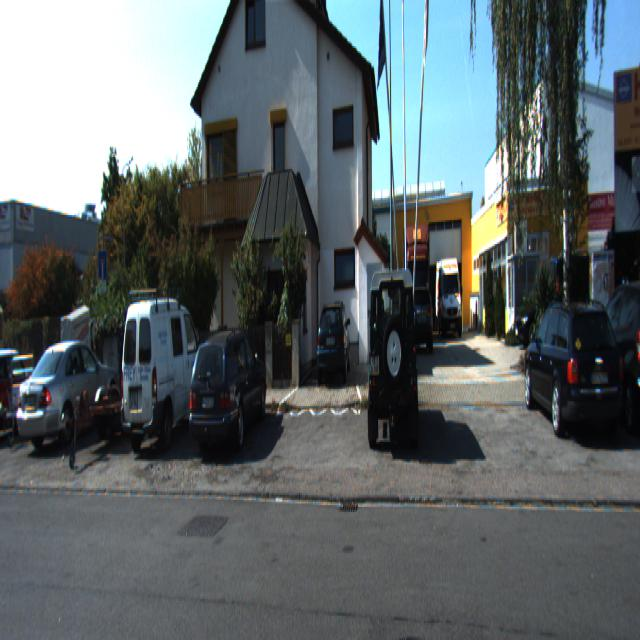Car: (522, 299, 630, 454), (118, 286, 213, 456), (36, 361, 174, 462), (14, 330, 122, 453), (186, 323, 268, 460), (366, 267, 421, 462), (580, 276, 640, 438), (0, 343, 58, 444), (0, 342, 46, 438), (403, 215, 432, 340), (316, 298, 350, 386), (57, 306, 91, 386), (435, 249, 464, 338), (411, 280, 435, 351)
